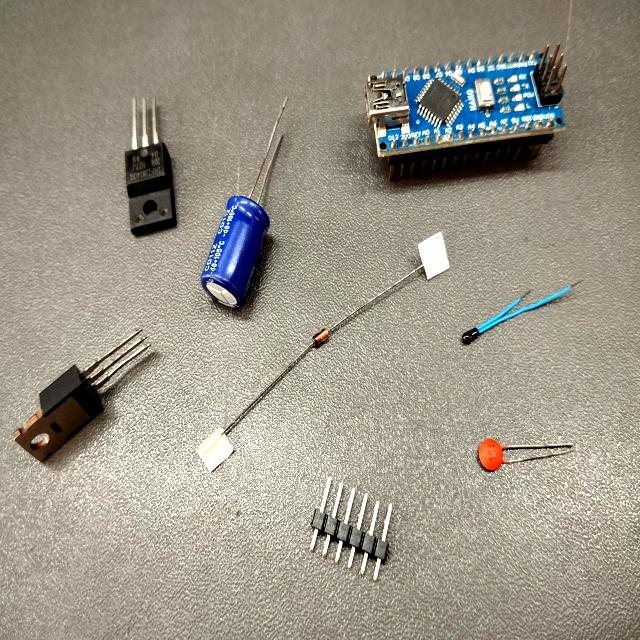capacitor: (199, 194, 274, 319), (473, 435, 518, 478)
